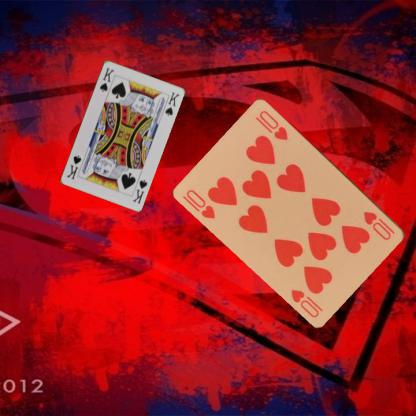10h: (361, 208, 397, 242), (184, 187, 217, 220)
Ks: (97, 65, 116, 92), (130, 177, 148, 204)
